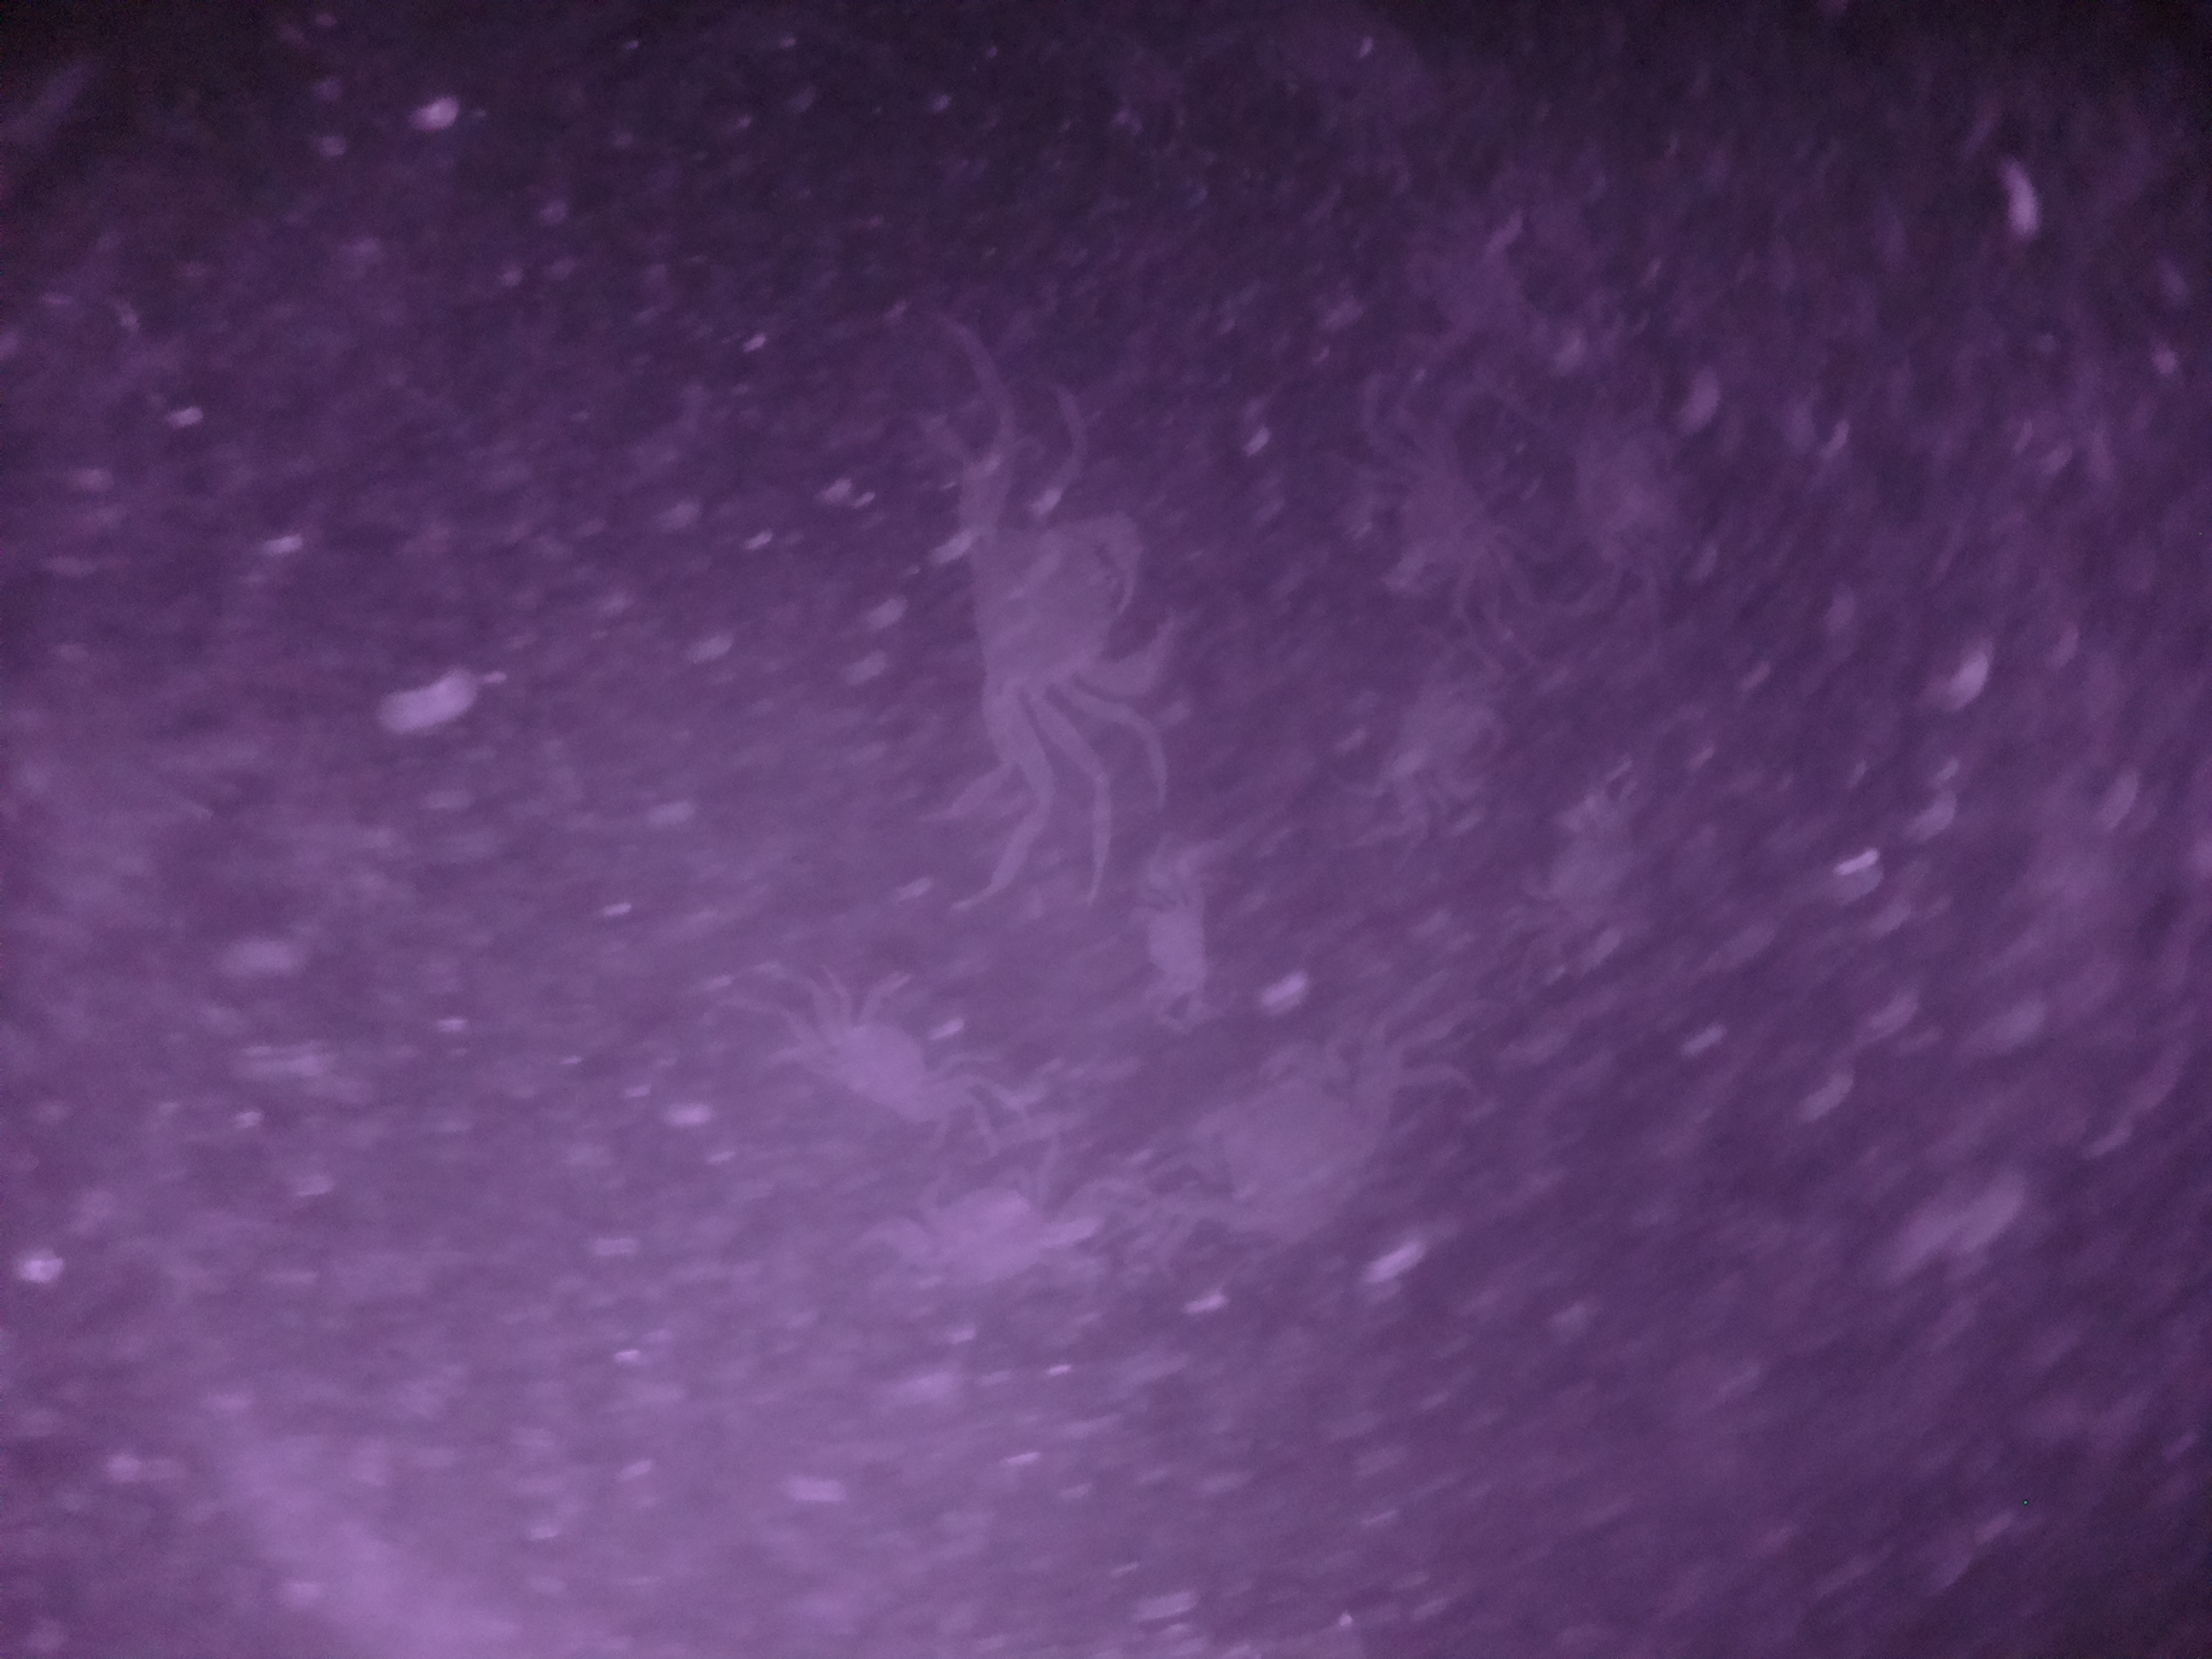Crab: (934, 474, 1205, 753), (1170, 1044, 1404, 1262), (817, 946, 984, 1141), (897, 1161, 1080, 1310), (1393, 662, 1524, 829), (1115, 875, 1244, 1021)
